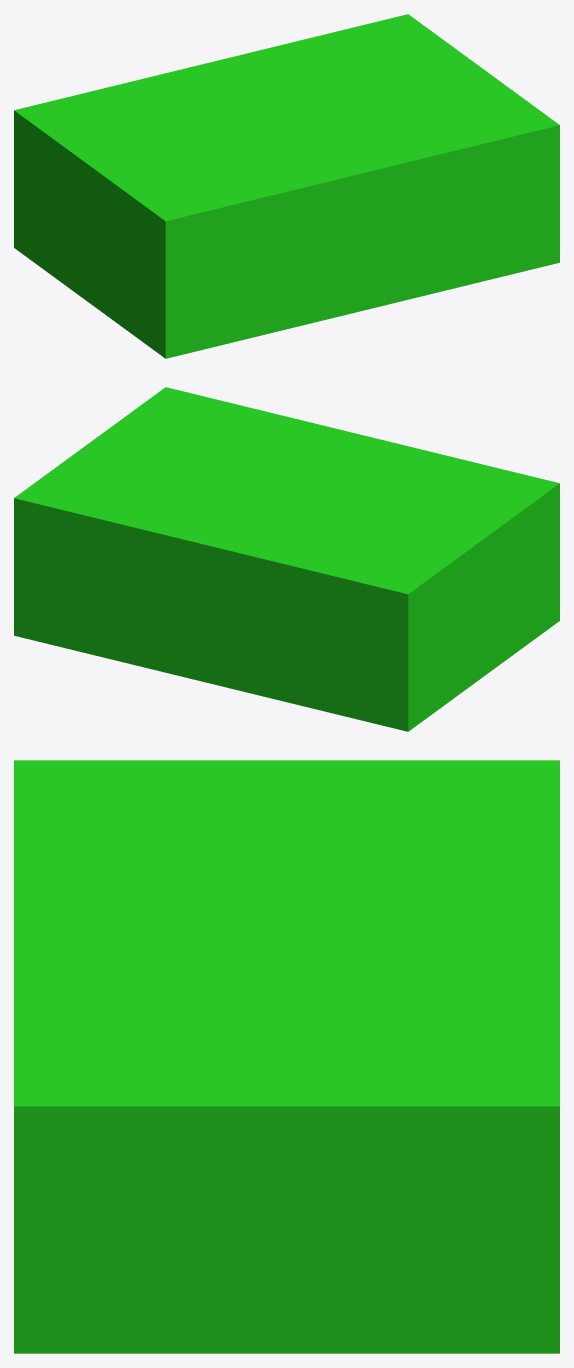
Rendered from car_body.dae.
3 views of the same model, one above another, from view 1: azimuth 30°, elevation 25°; view 2: azimuth 150°, elevation 25°; view 3: azimuth 270°, elevation 25° (orthographic). The views are drawn at different scales.
Parts seen in each view (by area): view 1: LayerFBXASC0580; view 2: LayerFBXASC0580; view 3: LayerFBXASC0580.
Part boxes in pixels (box(x1,y1,x2,y2)): LayerFBXASC0580: box(14, 14, 559, 358); LayerFBXASC0580: box(14, 387, 559, 731); LayerFBXASC0580: box(14, 760, 559, 1353).
Bounding box in the file's own units: 0.6 × 0.4 × 0.2.
